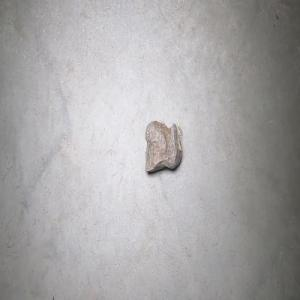Rock: (144, 118, 182, 173)
